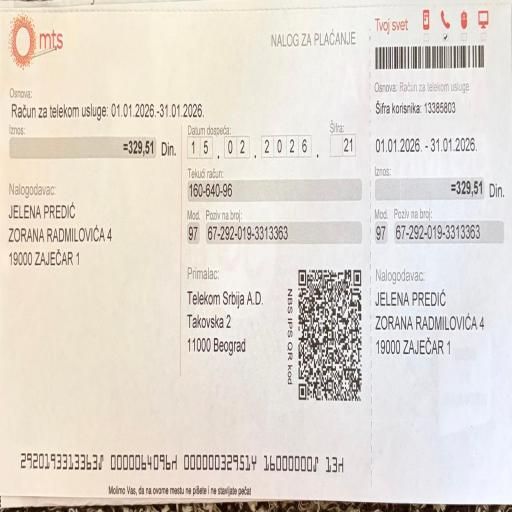mts_uplatnica: (372, 98, 509, 260)
